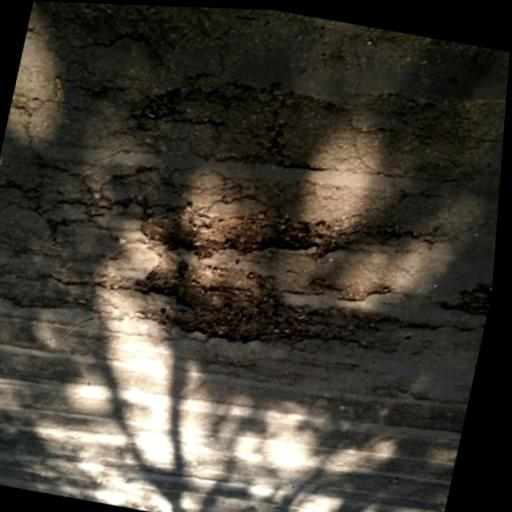pothole: (132, 180, 357, 283), (124, 250, 328, 359)
